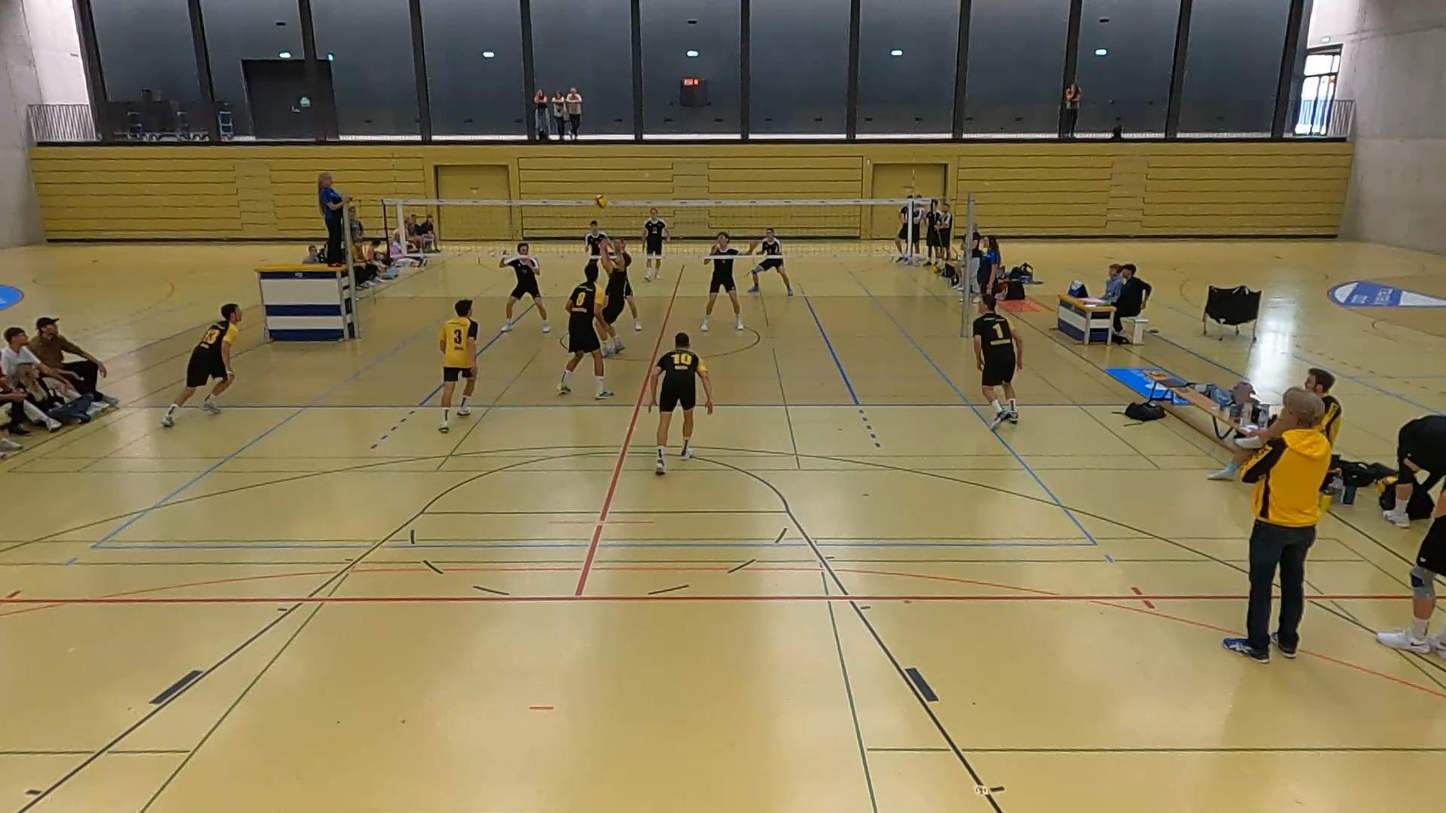alzata: (592, 228, 633, 363)
